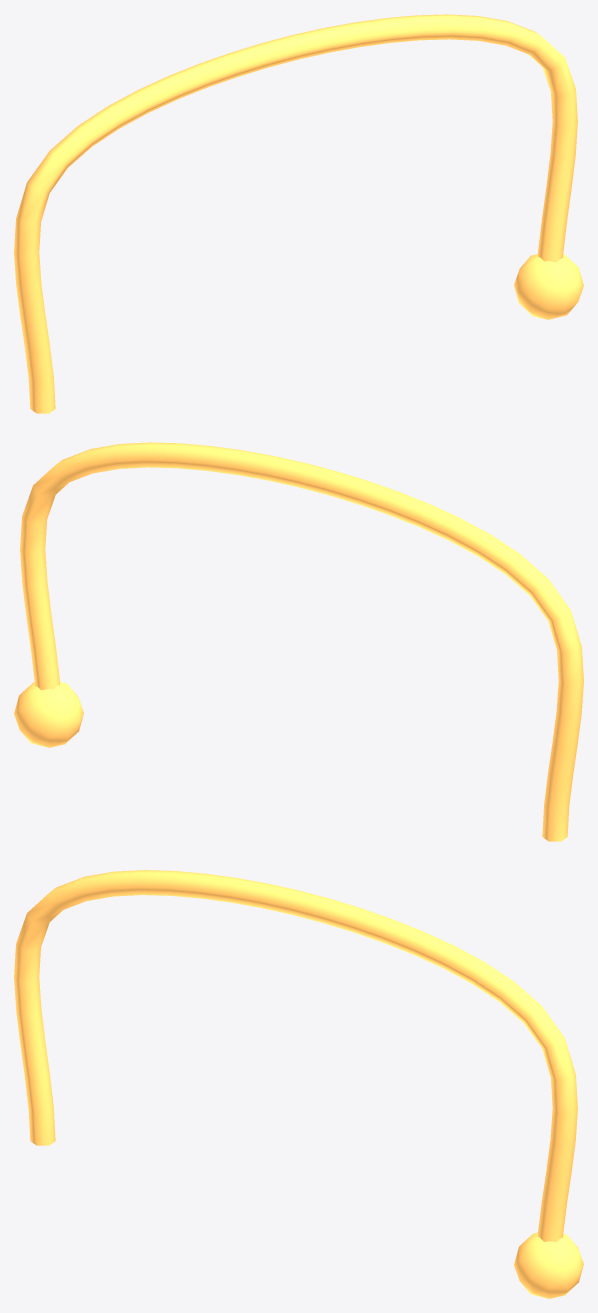
The model's file is residual-conduit.glb.
The picture shows the model from 3 angles, top to bottom: view 1: azimuth 30°, elevation 25°; view 2: azimuth 150°, elevation 25°; view 3: azimuth 330°, elevation 25°; orthographic projection.
Parts seen in each view (by area): view 1: bypass, add_node; view 2: bypass, add_node; view 3: bypass, add_node.
Part boxes in pixels (box(x1,y1,x2,y2)): bypass: box(14, 14, 577, 413); add_node: box(514, 254, 583, 319); bypass: box(20, 442, 583, 841); add_node: box(14, 682, 83, 747); bypass: box(14, 870, 577, 1241); add_node: box(514, 1232, 583, 1298).
Size of the model in its own units: 3.33 by 1.94 by 0.36.
